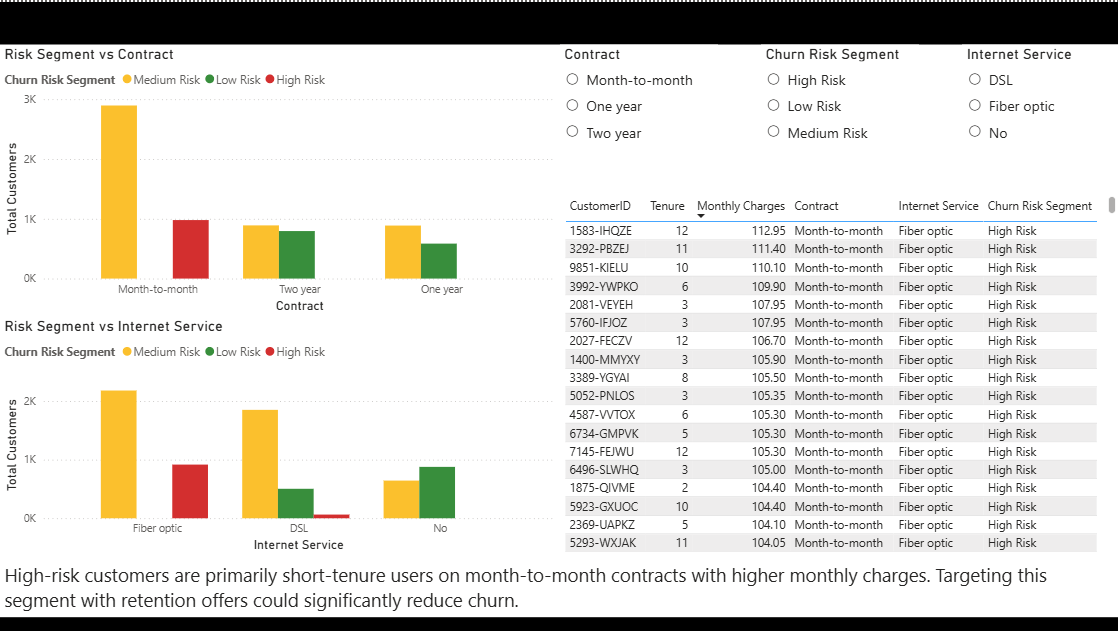

What the dashboard file says about the page in this screenshot:
{"tool":"powerbi","page":{"name":"Risk Deep Dive","canvas":[1280,720],"ordinal":2},"visuals":[{"type":"clusteredColumnChart","title":"Risk Segment vs Contract","fields":{"Category":["churn_risk_model.Contract"],"Y":["CountNonNull(churn_risk_model.customerID)"],"Series":["churn_risk_model.churn_risk_segment"]},"box":[0,48.8,640,311.2],"z":0},{"type":"clusteredColumnChart","title":"Risk Segment vs Internet Service","fields":{"Category":["churn_risk_model.InternetService"],"Y":["CountNonNull(churn_risk_model.customerID)"],"Series":["churn_risk_model.churn_risk_segment"]},"box":[0,360,637.5,273.8],"z":1},{"type":"tableEx","fields":{"Values":["churn_risk_model.customerID","churn_risk_model.tenure","churn_risk_model.MonthlyCharges","churn_risk_model.Contract","churn_risk_model.InternetService","churn_risk_model.churn_risk_segment"]},"box":[640,217.5,640,416.2],"z":2},{"type":"shape","box":[0,0,1280,48.6],"z":3},{"type":"shape","box":[0,702.9,1280,17.1],"z":4},{"type":"listSlicer","fields":{"Values":["churn_risk_model.Contract"]},"box":[640,48.8,180,128.8],"z":6},{"type":"listSlicer","fields":{"Values":["churn_risk_model.InternetService"]},"box":[1100,48.6,180,128.6],"z":7},{"type":"listSlicer","fields":{"Values":["churn_risk_model.churn_risk_segment"]},"box":[870,48.8,180,128.8],"z":8},{"type":"textbox","box":[0,634.3,1280,68.6],"z":9}]}

Visuals, with their boxes in screenshot pixels (x1, y1, x2, y2), scaled from the page's 1280x720 canvas onto the 1118x631 screenshot:
"Risk Segment vs Contract" clusteredColumnChart: box(0, 43, 559, 316)
"Risk Segment vs Internet Service" clusteredColumnChart: box(0, 316, 557, 555)
tableEx - churn_risk_model.customerID x churn_risk_model.tenure: box(559, 191, 1117, 555)
shape: box(0, 0, 1117, 43)
shape: box(0, 616, 1117, 630)
listSlicer - churn_risk_model.Contract: box(559, 43, 716, 156)
listSlicer - churn_risk_model.InternetService: box(961, 43, 1117, 155)
listSlicer - churn_risk_model.churn_risk_segment: box(760, 43, 917, 156)
textbox: box(0, 556, 1117, 616)
